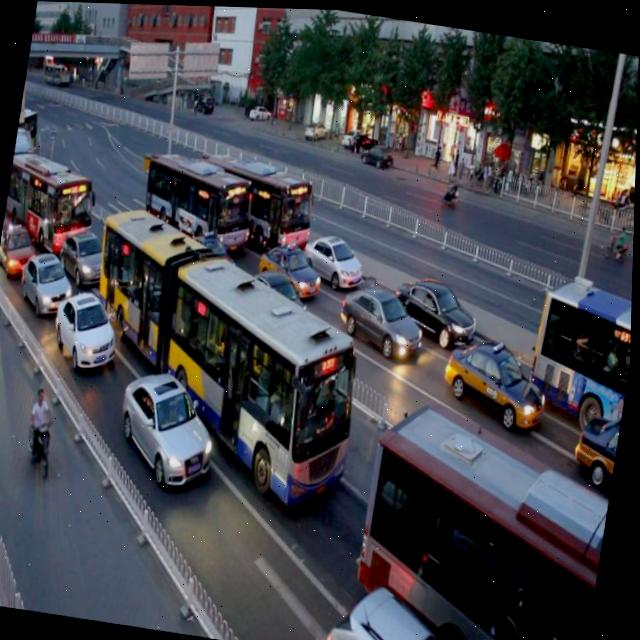car: (113, 360, 226, 490), (440, 326, 556, 434), (324, 573, 495, 640), (335, 273, 428, 361), (393, 265, 485, 346), (51, 283, 127, 371), (239, 264, 318, 341), (254, 230, 326, 302), (299, 221, 369, 291), (179, 226, 247, 292), (572, 402, 624, 484), (21, 247, 78, 320), (58, 226, 114, 290), (0, 214, 42, 279)
van: (67, 195, 383, 511), (349, 387, 622, 640), (525, 265, 634, 421), (136, 139, 261, 263), (195, 141, 322, 256), (2, 143, 102, 249)
